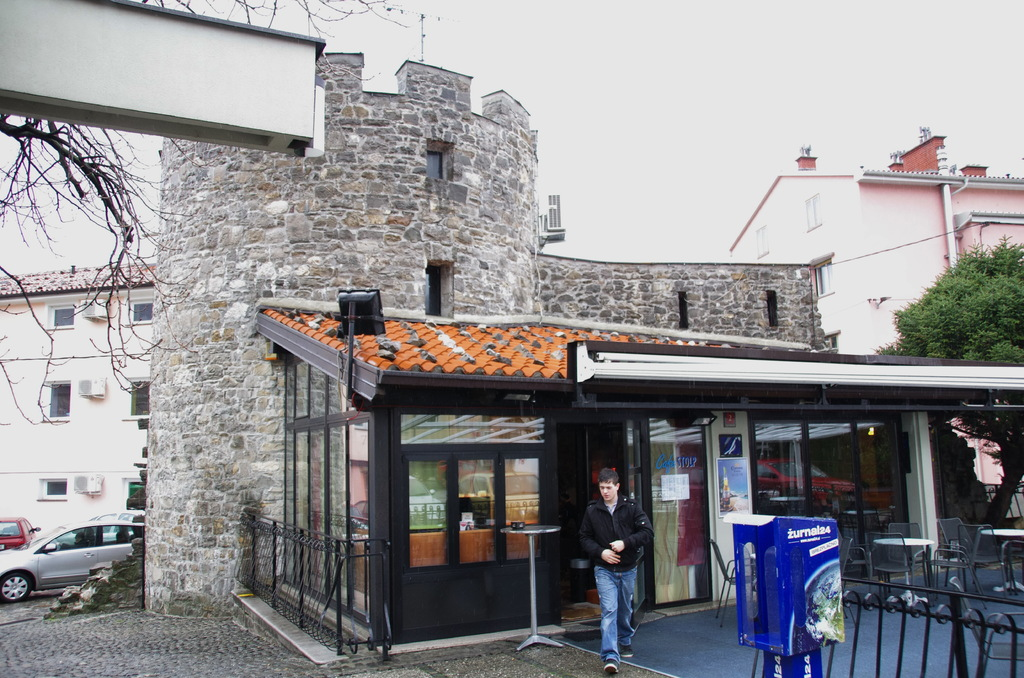Car: (0, 523, 129, 609), (0, 516, 32, 553), (83, 507, 145, 521)
